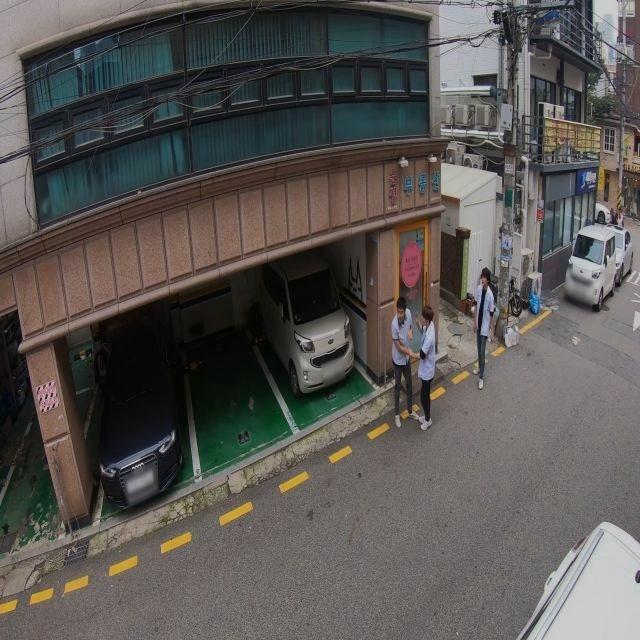fight: (383, 298, 444, 430)
non-fight: (468, 264, 500, 388)
